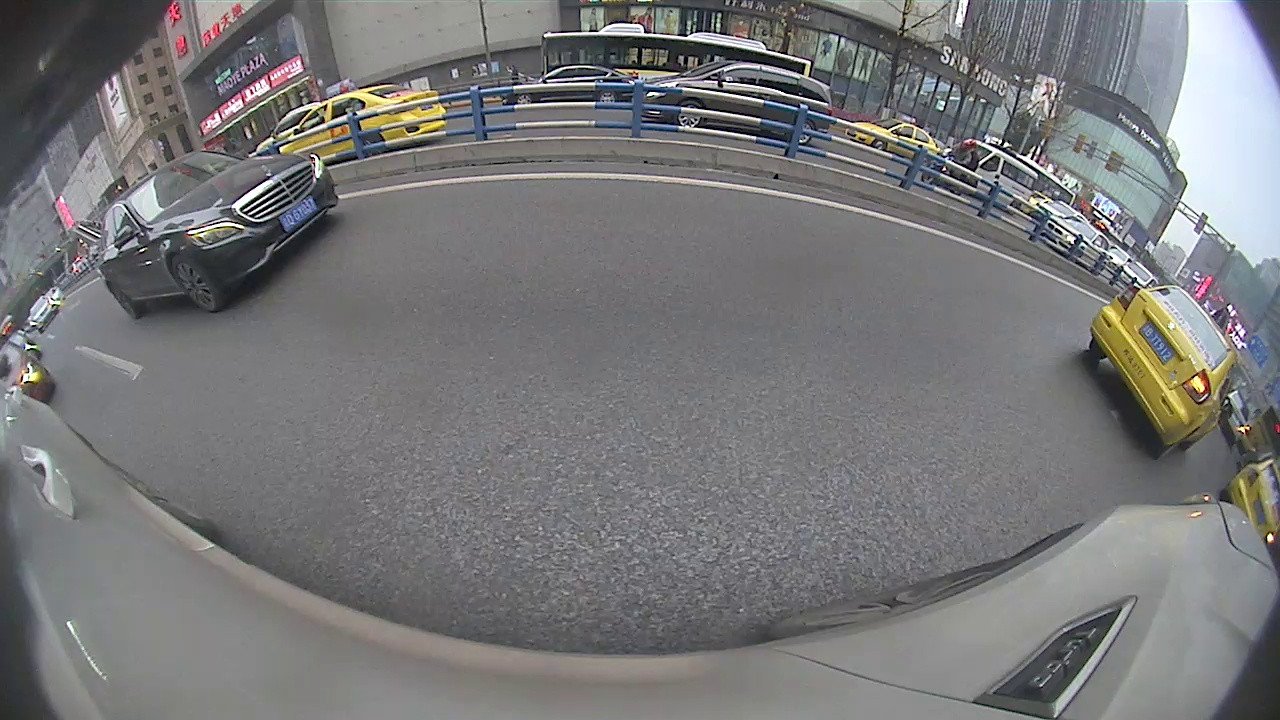bus: (537, 20, 816, 90)
car: (98, 142, 341, 323), (1086, 279, 1239, 461), (634, 57, 834, 149), (277, 77, 449, 165)
front: (169, 257, 221, 312), (676, 98, 706, 132)
rear: (106, 283, 139, 322), (789, 119, 817, 147)
rider: (943, 135, 1077, 202)
